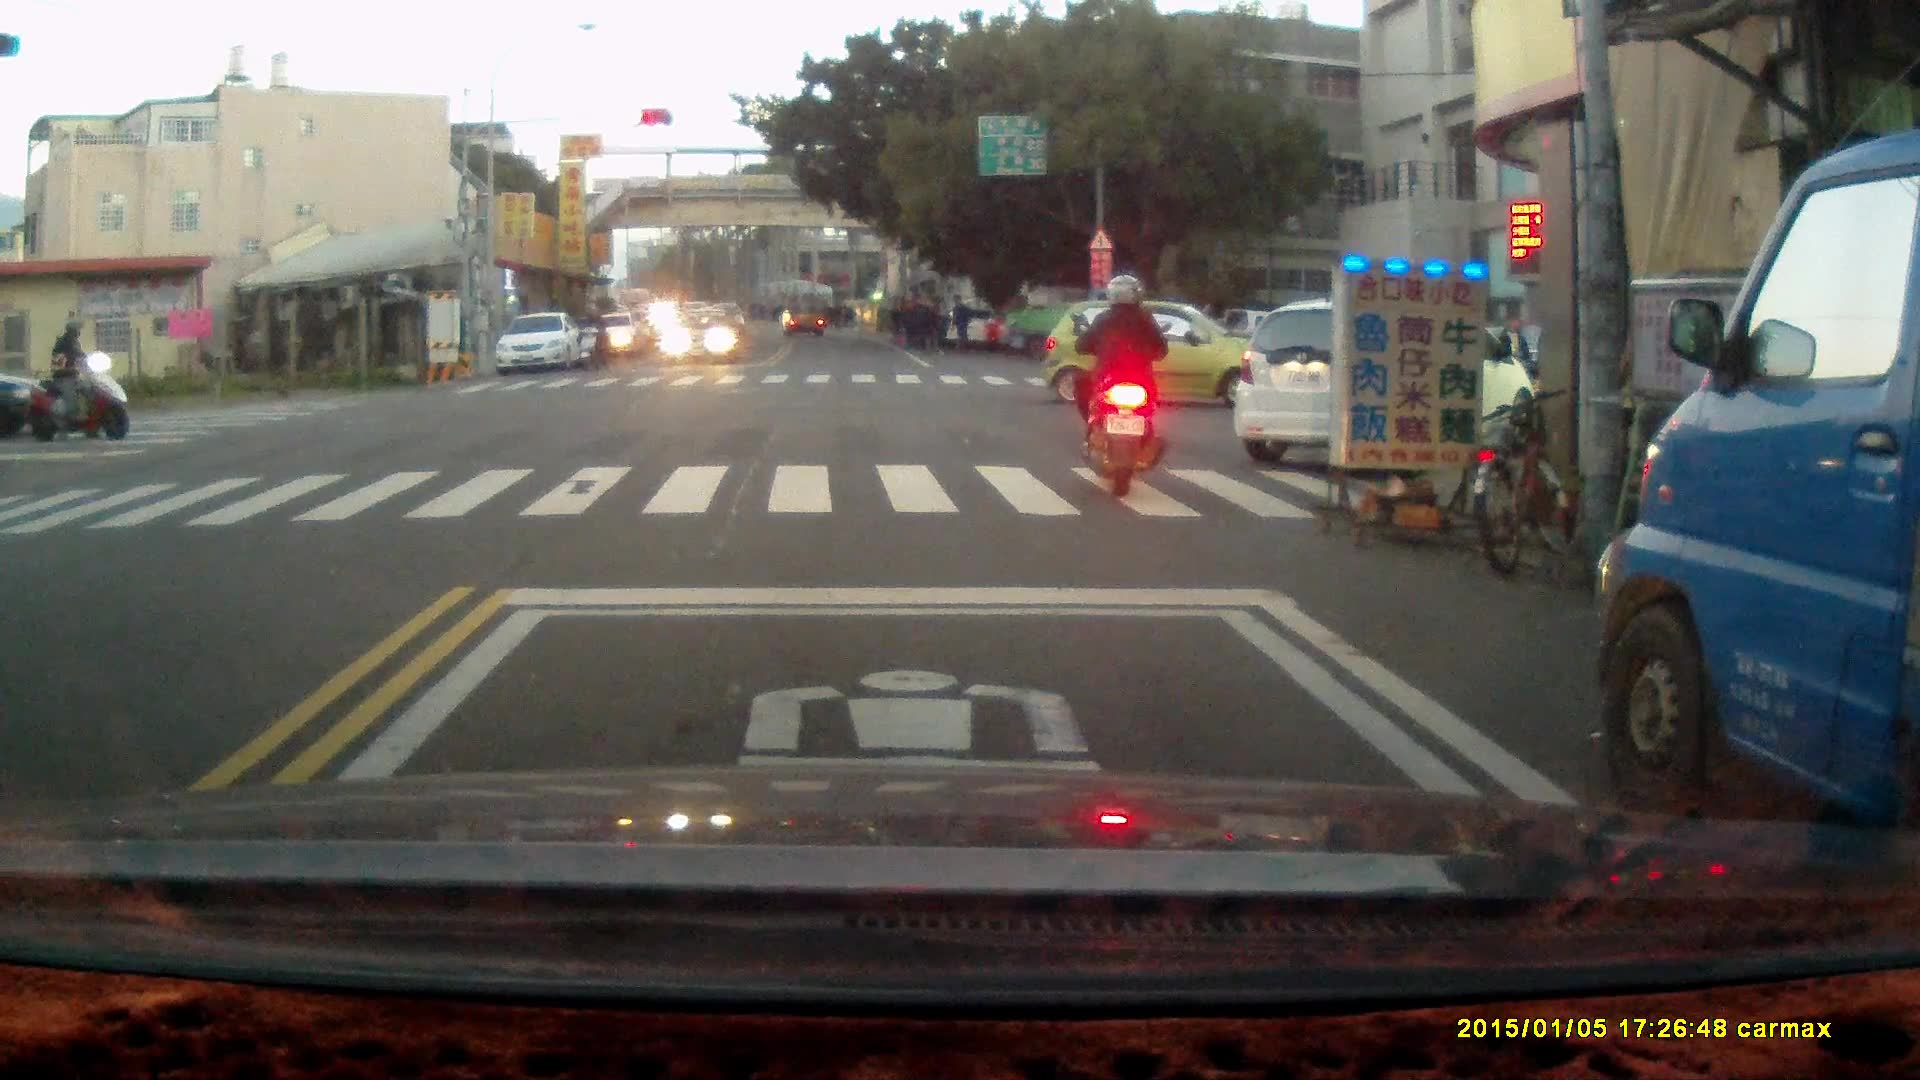pedestrian: (1492, 311, 1527, 387)
rider: (1065, 268, 1176, 496), (26, 318, 138, 441), (576, 299, 608, 372)
vehicle: (1599, 132, 1920, 844), (1233, 296, 1533, 459), (1033, 299, 1267, 412), (1002, 284, 1179, 367), (493, 313, 586, 377), (1, 372, 63, 437), (592, 311, 642, 360), (785, 292, 829, 341)
